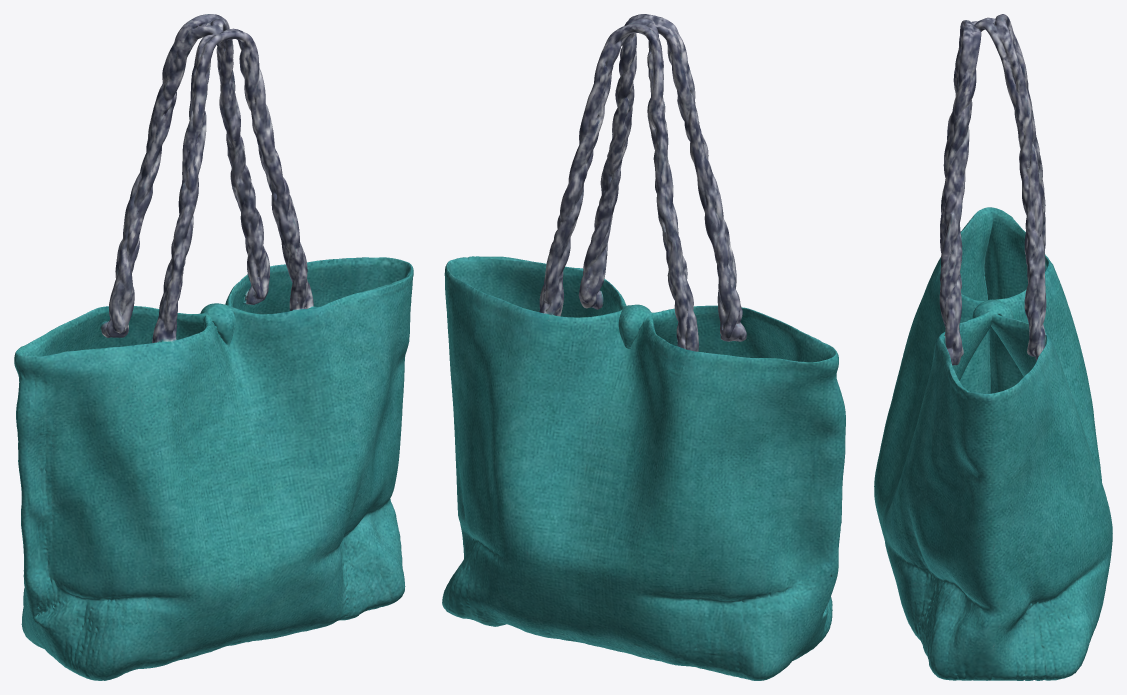
Rendered from tuixach.glb.
The picture shows the model from 3 angles, left to right: view 1: azimuth 30°, elevation 25°; view 2: azimuth 150°, elevation 25°; view 3: azimuth 270°, elevation 25°; orthographic projection. The views are drawn at different scales.
Visible parts, largest first — view 1: world; view 2: world; view 3: world.
Part boxes in pixels (box(x1,y1,x2,y2)): world: box(14, 14, 413, 680); world: box(442, 14, 845, 680); world: box(874, 14, 1112, 680).
Size of the model in its own units: 0.6814 by 1 by 0.3655.
Materials: 1 (1 with a texture image).
